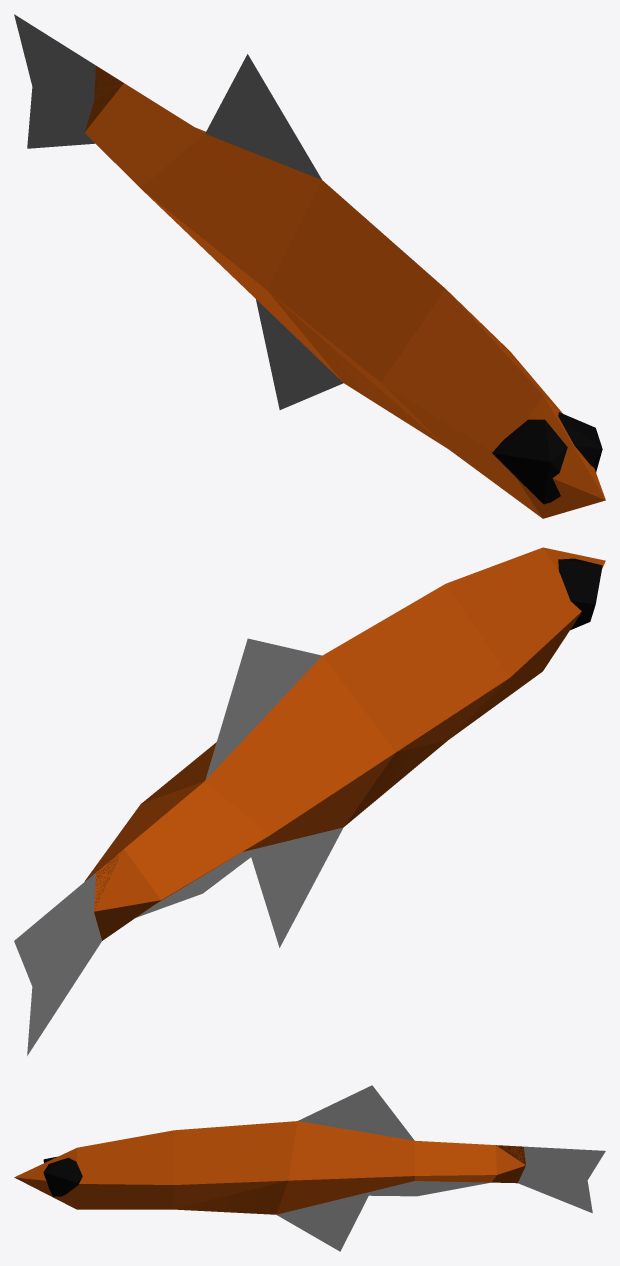
The model's file is Resources__items__creatures__Superdwarf Fish.glb.
The picture shows the model from 3 angles, top to bottom: view 1: azimuth 30°, elevation 25°; view 2: azimuth 150°, elevation 25°; view 3: azimuth 270°, elevation 25°; orthographic projection. The views are drawn at different scales.
Parts seen in each view (by area): view 1: SuperdwarfFish; view 2: SuperdwarfFish; view 3: SuperdwarfFish.
Boxes of the visible parts, x1,y1,x2,y2 form: SuperdwarfFish: (14,14,605,518); SuperdwarfFish: (14,547,605,1055); SuperdwarfFish: (14,1085,605,1251).
Bounding box in the file's own units: 0.00551 × 0.0136 × 0.0438.
Materials: 1 (1 with a texture image).
